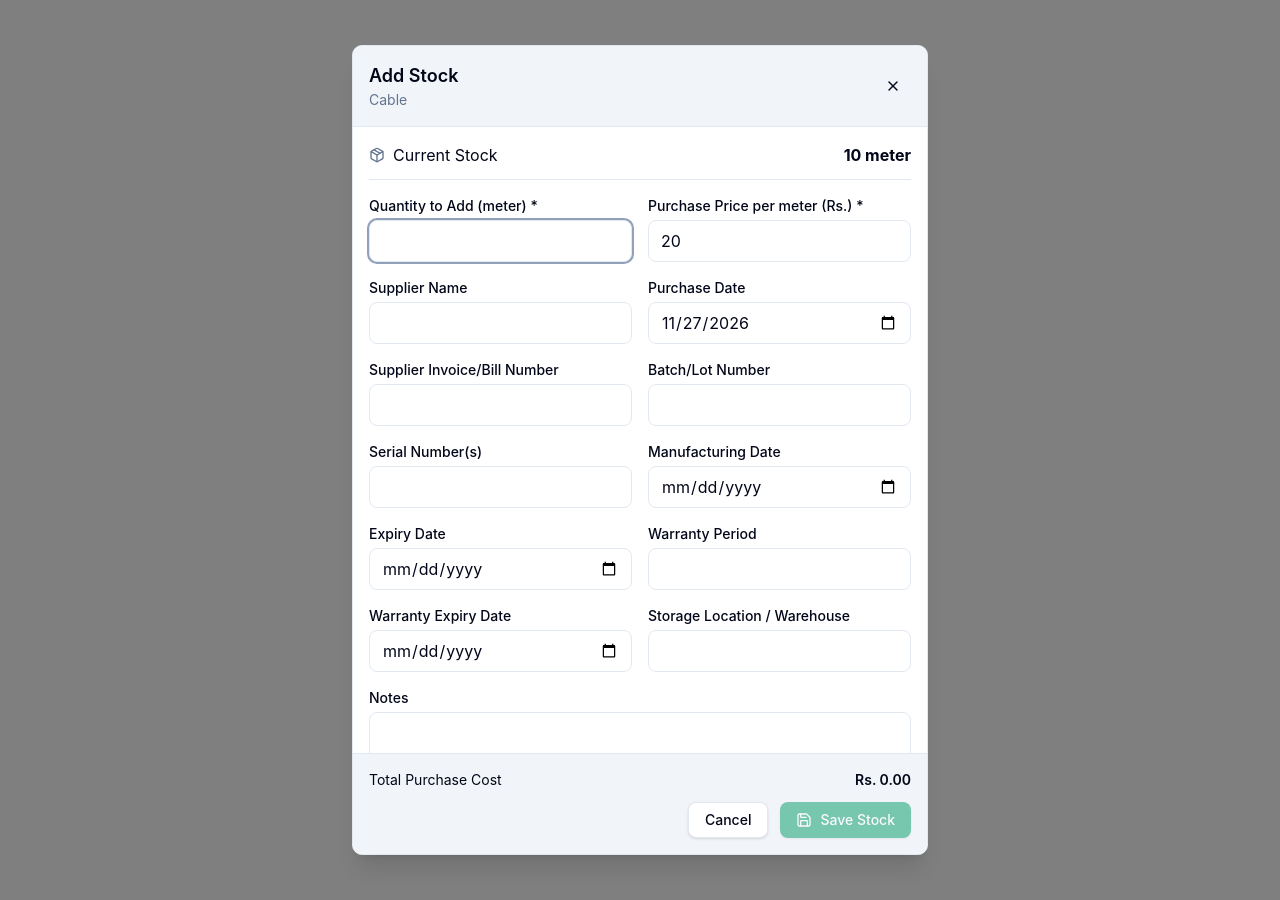
Test: Add Stock rules › keeps stock unchanged and the form open when cloud saving fails; retry records only once
The image size is (1280, 900).
Later steps or results of the test are not shown.
Type "2.5" into the number field labelled "Quantity to Add (meter) *". click: (500, 241)
box: top-left (369, 220), bottom-right (632, 262)
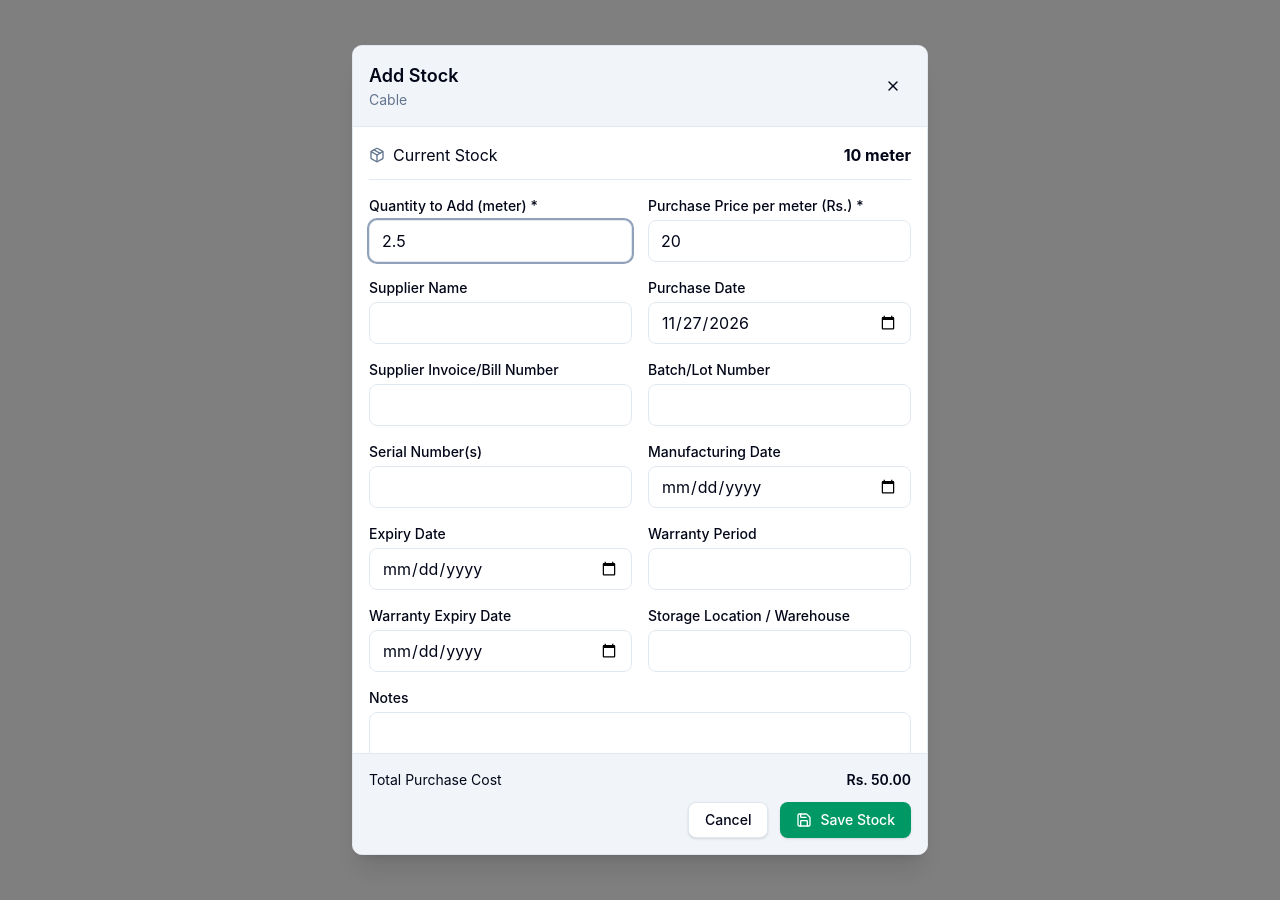
Replace the text in the number field labelled "Purchase Price per meter (Rs.) *" with "12". click: (780, 241)
box: top-left (648, 220), bottom-right (911, 262)
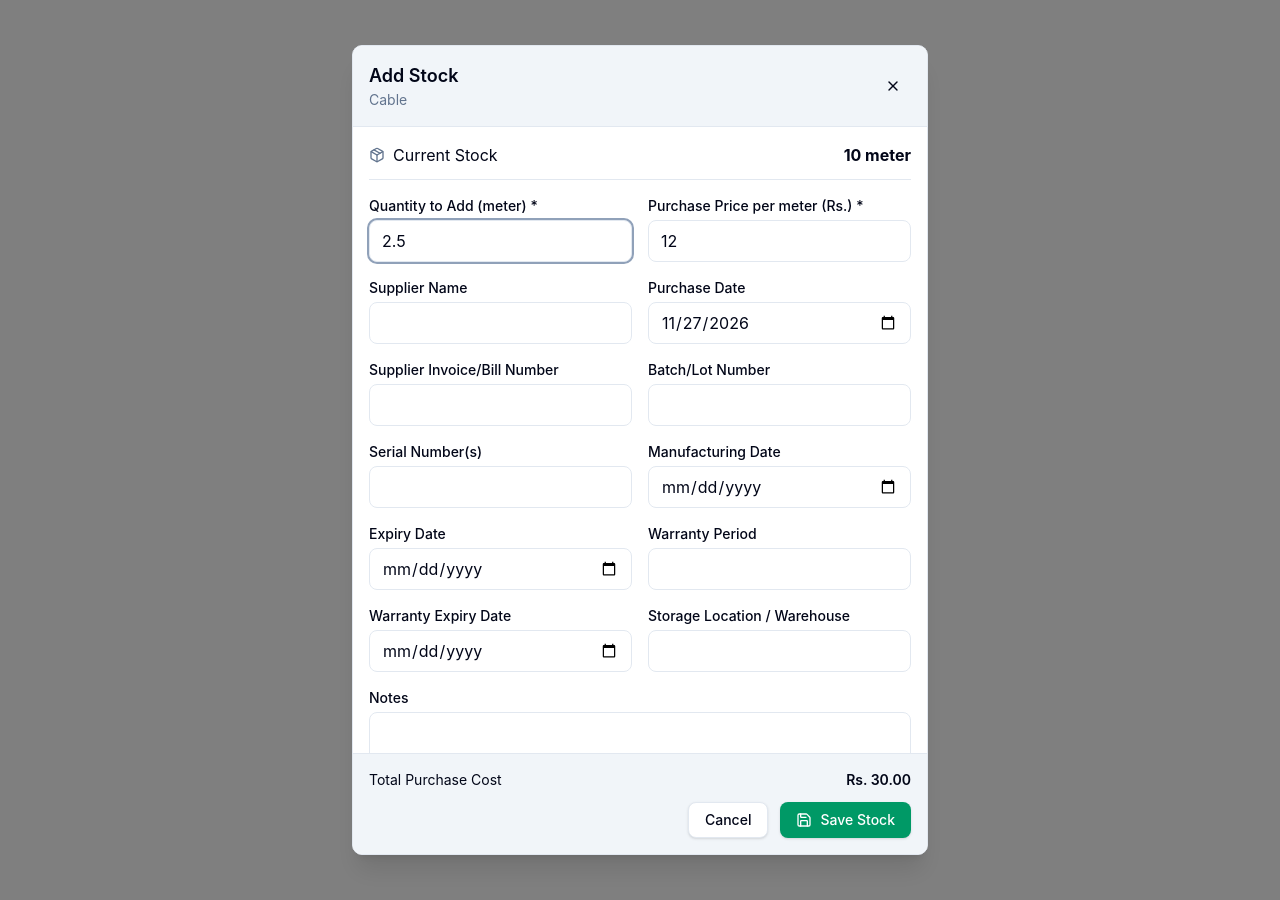
Click the button "Save Stock". click: click(846, 820)
box: top-left (780, 802), bottom-right (911, 838)
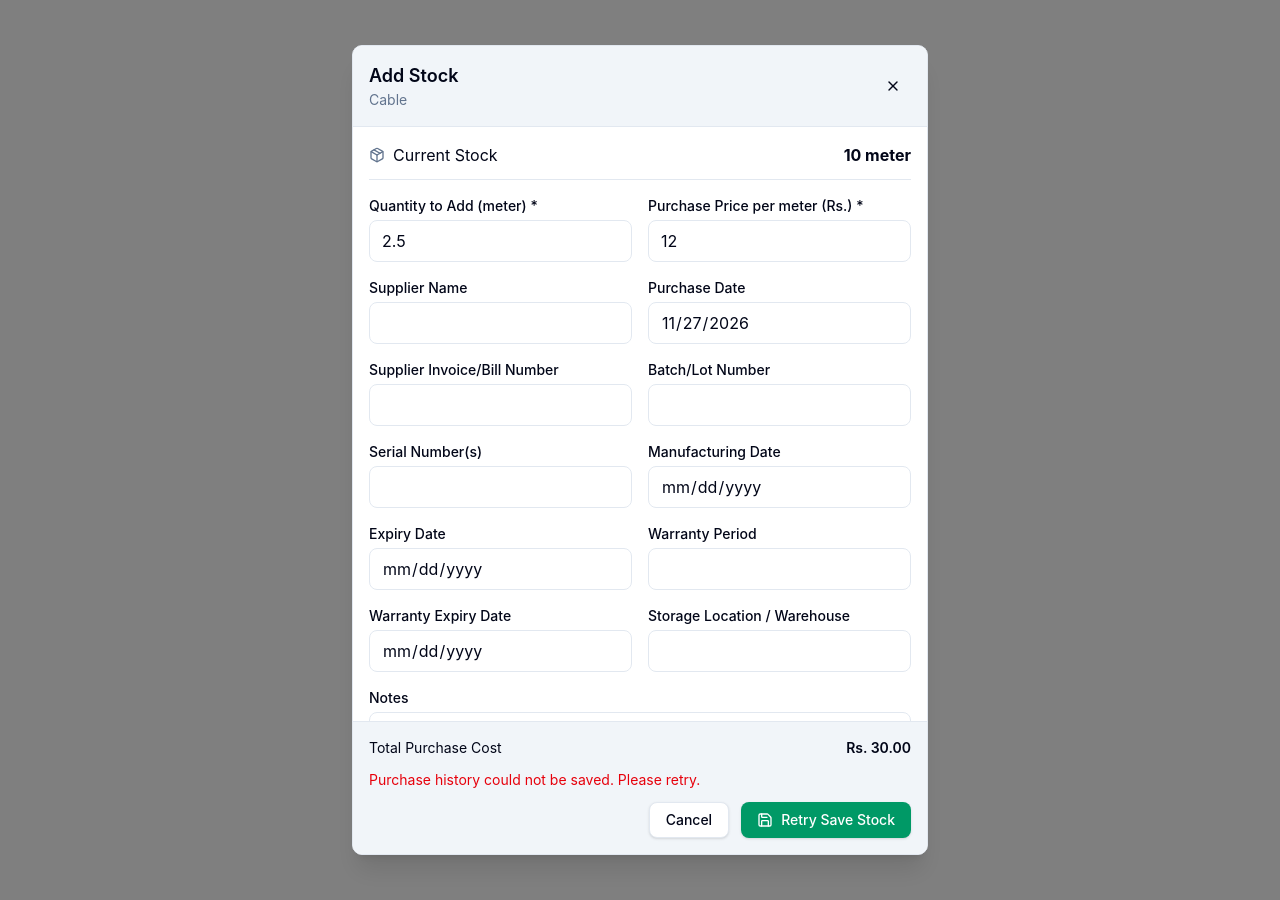
Result: the message "Purchase history could not be saved. Please retry." is shown at top-left (369, 771), bottom-right (700, 788)
